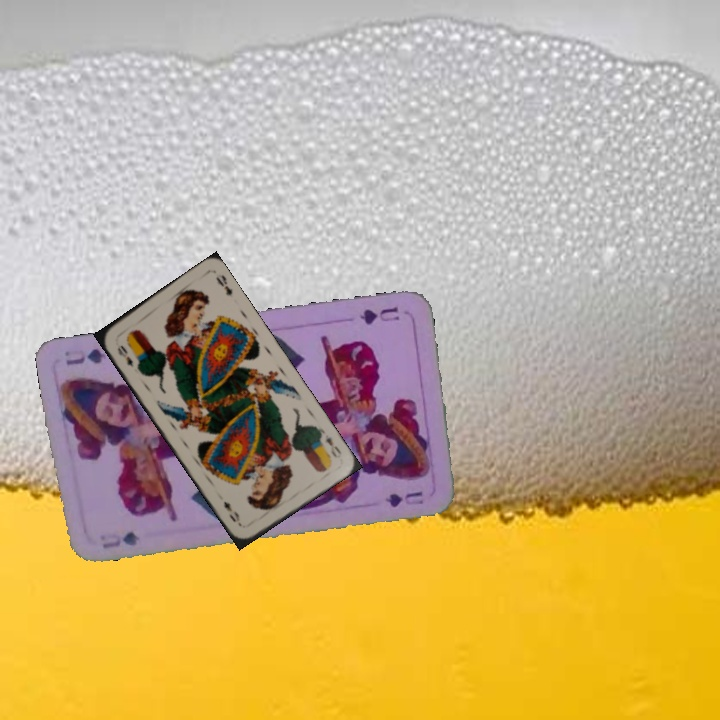EO: (315, 426, 344, 461), (113, 341, 136, 370)
GU: (355, 303, 402, 327), (98, 527, 142, 551)
